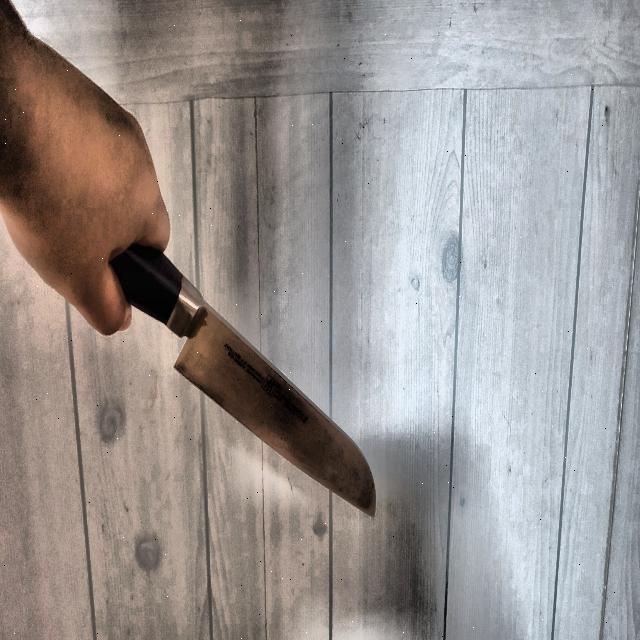knife: (109, 235, 378, 521)
